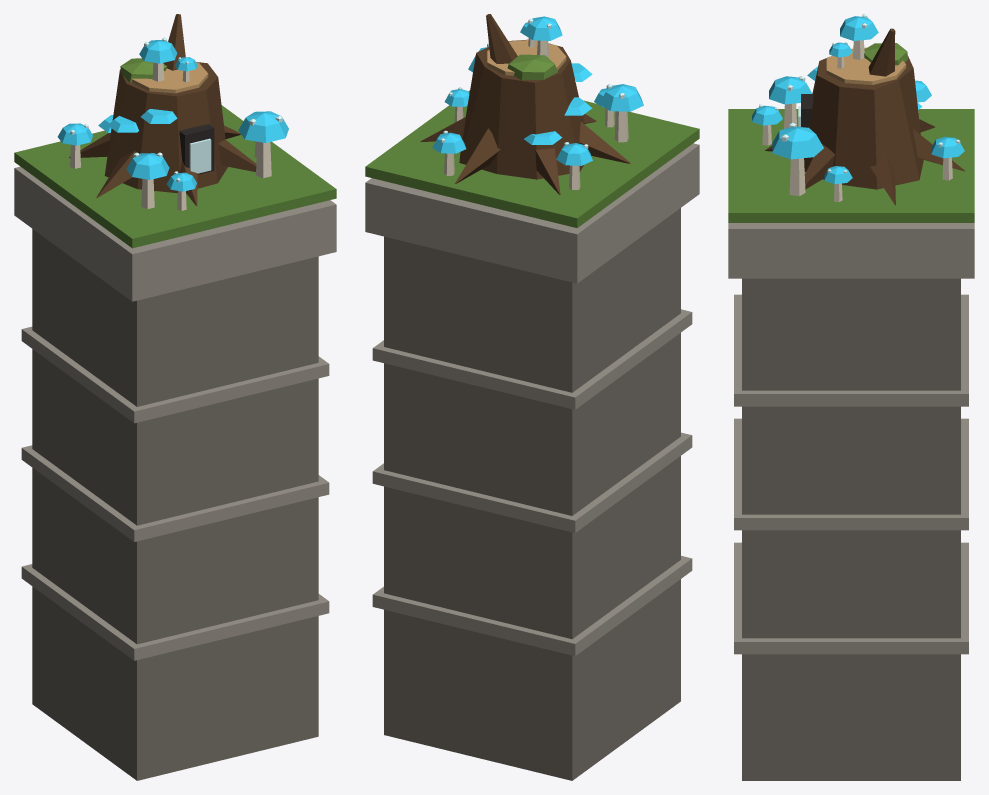
Rendered from decor_glow_stump.glb.
3 views of the same model, side by side, from view 1: azimuth 30°, elevation 25°; view 2: azimuth 150°, elevation 25°; view 3: azimuth 270°, elevation 25° (orthographic). The views are drawn at different scales.
Visible parts, largest first — view 1: decor_glow_stump; view 2: decor_glow_stump; view 3: decor_glow_stump.
Part boxes in pixels (x1,y1,x2,y2): decor_glow_stump: [14, 14, 336, 780]; decor_glow_stump: [365, 14, 699, 780]; decor_glow_stump: [728, 14, 974, 780].
Bounding box in the file's own units: 1.8 × 5.79 × 1.8.
